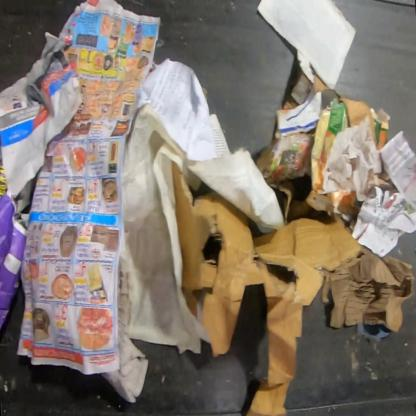cardboard: (171, 161, 367, 415), (323, 249, 413, 332), (322, 88, 372, 132), (369, 107, 392, 151), (313, 72, 330, 96)
